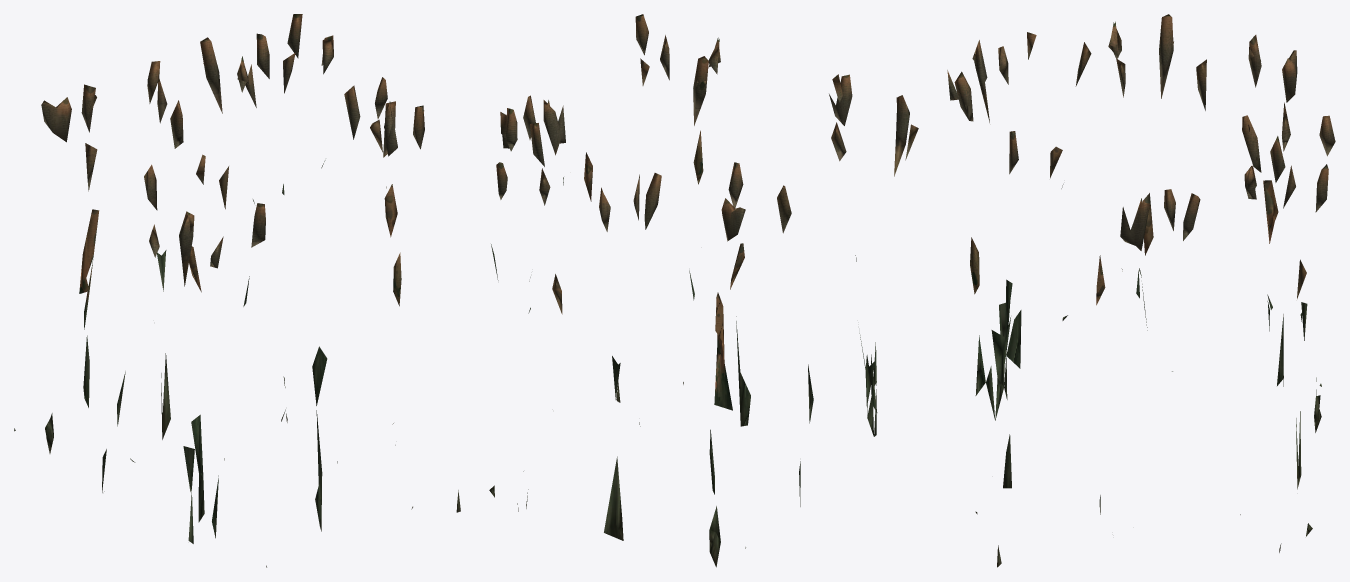
The model's file is swamp-bush-1.glb.
3 renders of one model, left to right at view 1: azimuth 30°, elevation 25°; view 2: azimuth 150°, elevation 25°; view 3: azimuth 270°, elevation 25°, orthographic. The views are drawn at different scales.
Visible parts, largest first — view 1: geometry_0; view 2: geometry_0; view 3: geometry_0.
Boxes of the visible parts, x1,y1,x2,y2 form: geometry_0: [14, 14, 460, 567]; geometry_0: [489, 14, 918, 567]; geometry_0: [947, 14, 1335, 567].
Size of the model in its own units: 0.6649 by 0.9137 by 0.6784.
1 material, 1 textured.
